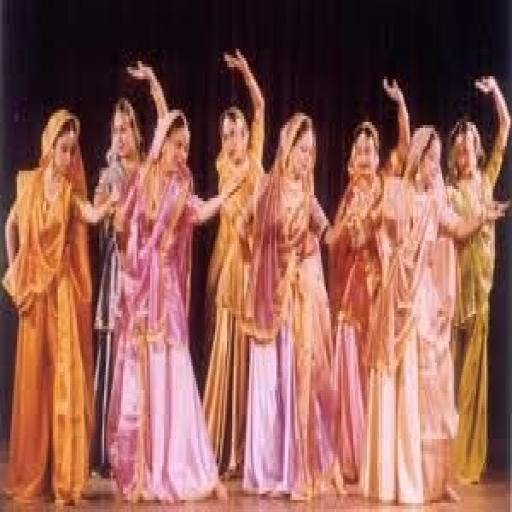dancing: (106, 58, 234, 506), (0, 104, 118, 509), (239, 110, 350, 503), (440, 70, 510, 491)
